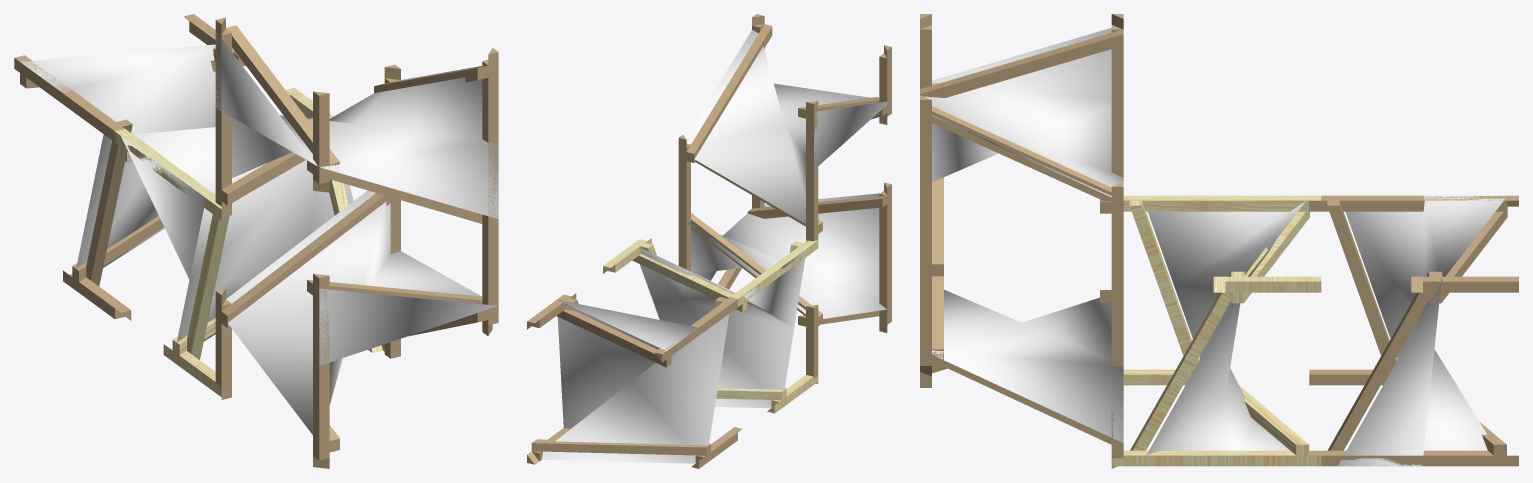
Rendered from iter 01.fbx.
3 views of the same model, side by side, from view 1: azimuth 30°, elevation 25°; view 2: azimuth 150°, elevation 25°; view 3: azimuth 270°, elevation 25° (orthographic). The views are drawn at different scales.
Parts seen in each view (by area): view 1: Layer 07, Object_11, Object_1, Object_29, Object_20, Wood; view 2: Object_20, Layer 07, Object_11, Object_1, Object_29, Wood; view 3: Layer 07, Object_20, Object_29, Wood, Object_11, Object_1.
Boxes of the visible parts, bbox=[...] form: Layer 07: bbox=[14, 14, 498, 468]; Object_11: bbox=[215, 32, 498, 218]; Object_1: bbox=[226, 190, 497, 434]; Object_29: bbox=[121, 118, 353, 341]; Object_20: bbox=[20, 44, 215, 268]; Wood: bbox=[115, 87, 384, 396]; Object_20: bbox=[542, 300, 729, 463]; Layer 07: bbox=[527, 14, 891, 468]; Object_11: bbox=[686, 30, 890, 223]; Object_1: bbox=[687, 193, 886, 318]; Object_29: bbox=[639, 247, 806, 408]; Wood: bbox=[603, 238, 818, 413]; Layer 07: bbox=[920, 14, 1518, 468]; Object_20: bbox=[1338, 195, 1505, 466]; Object_29: bbox=[1146, 201, 1305, 455]; Wood: bbox=[1111, 195, 1321, 466]; Object_11: bbox=[924, 28, 1123, 197]; Object_1: bbox=[932, 289, 1123, 442].
Size of the model in its own units: 0.6 by 1.77 by 1.2.
3 materials, 1 textured.
